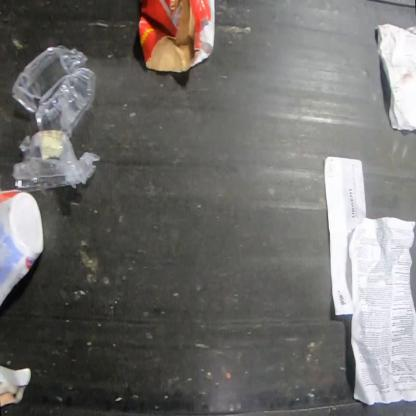cardboard: (137, 0, 216, 73)
rigid_plastic: (11, 45, 101, 192), (0, 190, 45, 308)
